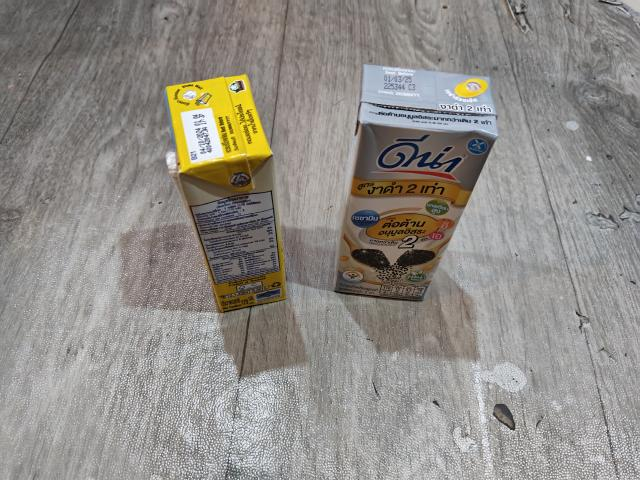drink_box: (322, 59, 507, 310), (152, 68, 307, 317)
